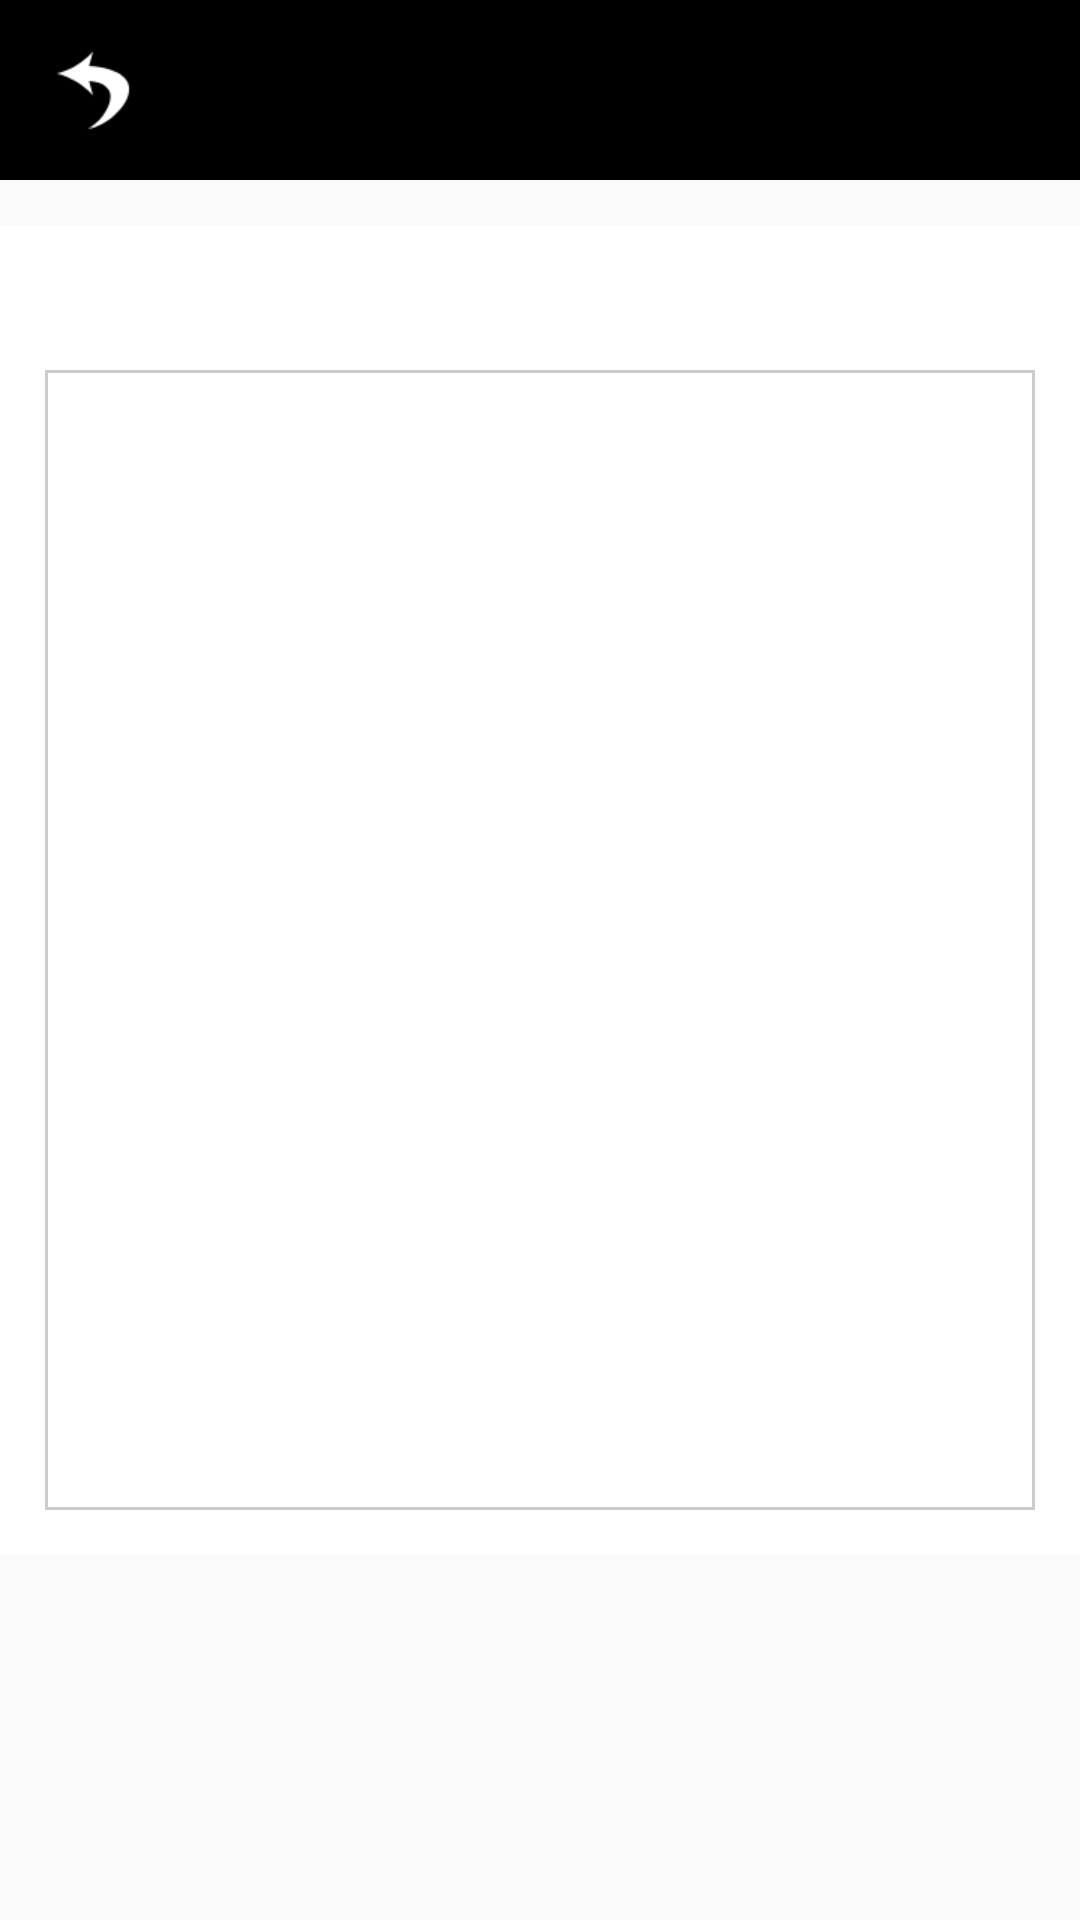

Named icons in this screenshot (1080×1920) and their bounding boxes, bbox=[x1, y1, x2, y2]:
back: bbox=[57, 52, 130, 129]
